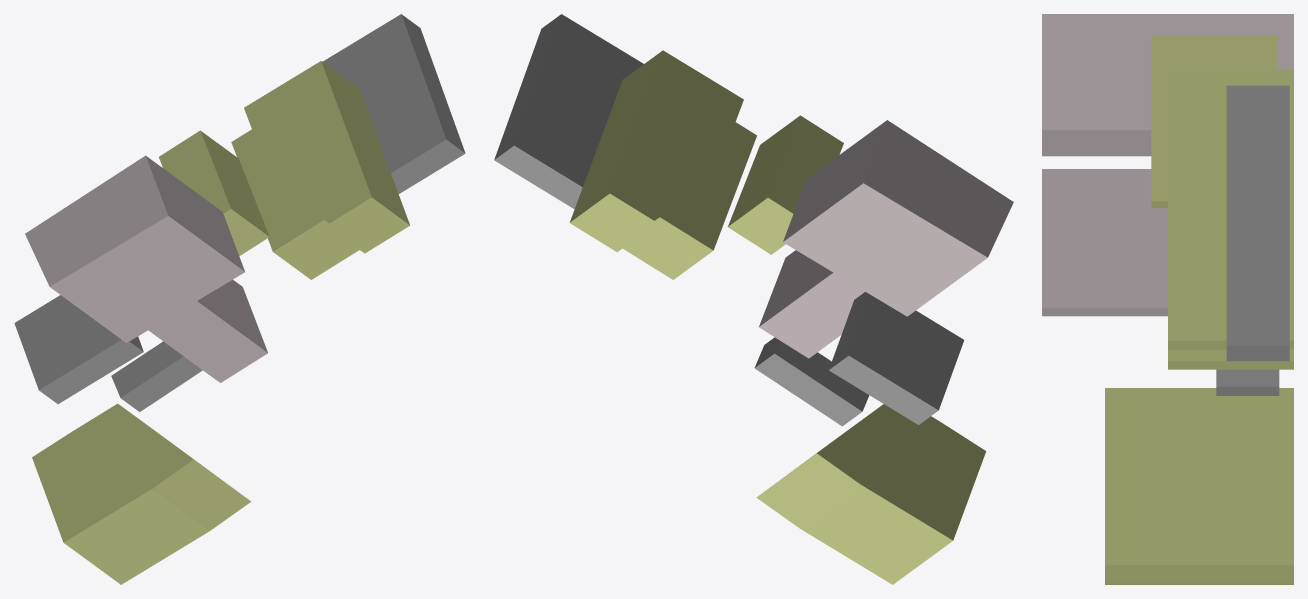
The picture shows the model from 3 angles, left to right: view 1: azimuth 30°, elevation 25°; view 2: azimuth 150°, elevation 25°; view 3: azimuth 270°, elevation 25°; orthographic projection. The views are drawn at different scales.
Visible parts, largest first — view 1: 0_1_0_2_0_0_3_0_2; view 2: 0_1_0_2_0_0_3_0_2; view 3: 0_1_0_2_0_0_3_0_2.
Boxes of the visible parts, x1,y1,x2,y2 form: 0_1_0_2_0_0_3_0_2: (14, 14, 465, 584); 0_1_0_2_0_0_3_0_2: (494, 14, 1013, 584); 0_1_0_2_0_0_3_0_2: (1042, 14, 1293, 584).
Bounding box in the file's own units: 38.78 × 38.5 × 12.
